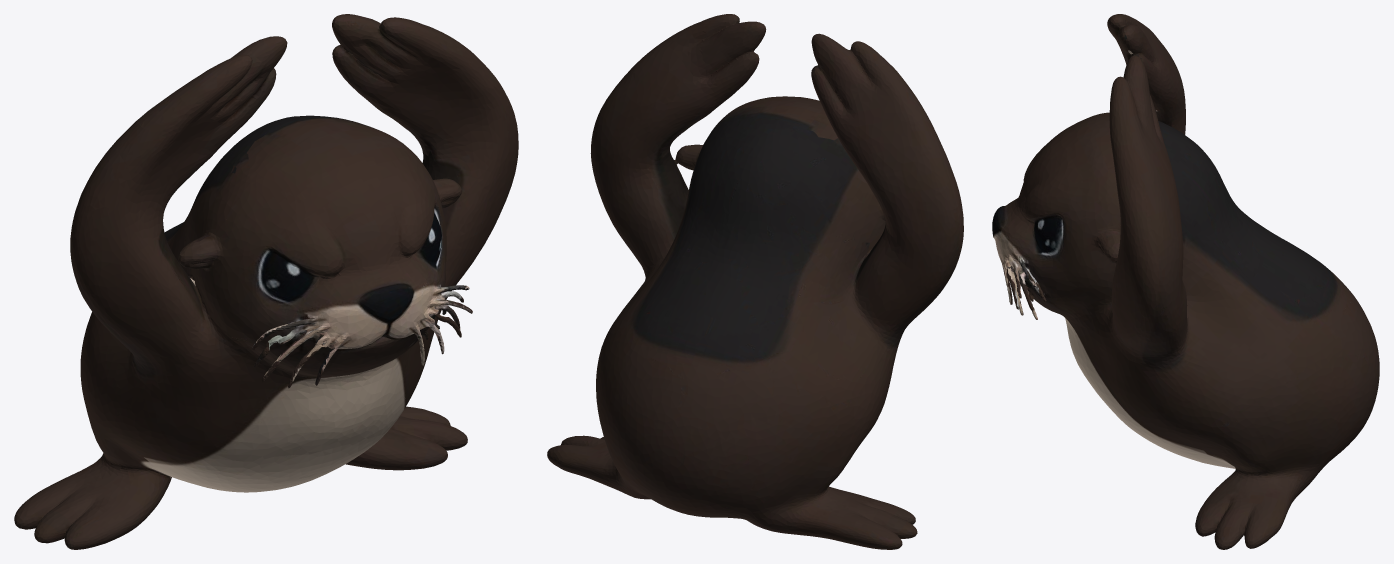
Rendered from reggie_slam.glb.
3 views of the same model, side by side, from view 1: azimuth 30°, elevation 25°; view 2: azimuth 150°, elevation 25°; view 3: azimuth 270°, elevation 25° (orthographic). The views are drawn at different scales.
Visible parts, largest first — view 1: tmp7xdp45ze.ply; view 2: tmp7xdp45ze.ply; view 3: tmp7xdp45ze.ply.
Boxes of the visible parts, <box> form: tmp7xdp45ze.ply: <box>14,14,518,549</box>; tmp7xdp45ze.ply: <box>547,14,963,549</box>; tmp7xdp45ze.ply: <box>992,14,1379,549</box>.
Bounding box in the file's own units: 1.79 × 1.99 × 1.65.
Materials: 1 (1 with a texture image).
